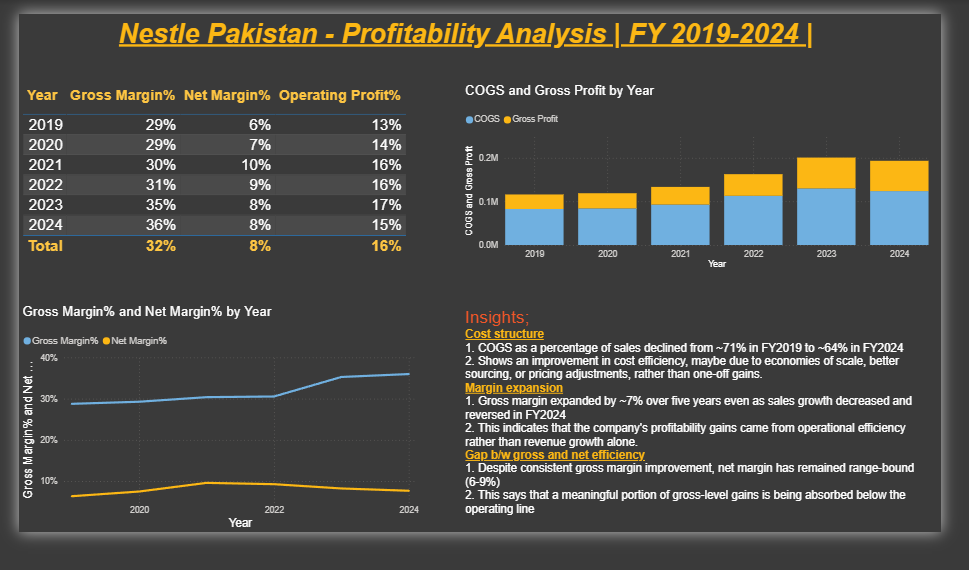

What the dashboard file says about the page in this screenshot:
{"tool":"powerbi","page":{"name":"Profitability","canvas":[1280,720],"ordinal":2},"visuals":[{"type":"lineChart","fields":{"Category":["Year Table.Year"],"Y":["Nestle Pakistan 6 yr Summary.Gross Margin%","Nestle Pakistan 6 yr Summary.Net Margin%"]},"box":[0,401.7,560,318.3],"z":0},{"type":"tableEx","fields":{"Values":["Year Table.Year","Nestle Pakistan 6 yr Summary.Gross Margin%","Nestle Pakistan 6 yr Summary.Net Margin%","Nestle Pakistan 6 yr Summary.Operating Profit%"]},"box":[0,96.7,560,248.3],"z":1000},{"type":"columnChart","fields":{"Category":["Year Table.Year"],"Y":["Nestle Pakistan 6 yr Summary.COGS","Nestle Pakistan 6 yr Summary.Gross Profit"]},"box":[615,96.7,653.3,263.3],"z":2000},{"type":"textbox","box":[133.3,0,1011.7,66.7],"z":3000},{"type":"textbox","box":[615,401.7,641.7,305],"z":4000}]}

Visuals, with their boxes on the page's 1280x720 design canvas (x1, y1, x2, y2). These are canvas units, not pixel positions in the 969x570 screenshot, which may show the page scaled, cropped or inside an application window:
lineChart - Year Table.Year x Nestle Pakistan 6 yr Summary.Gross Margin%: <bbox>0, 402, 560, 720</bbox>
tableEx - Year Table.Year x Nestle Pakistan 6 yr Summary.Gross Margin%: <bbox>0, 97, 560, 345</bbox>
columnChart - Year Table.Year x Nestle Pakistan 6 yr Summary.COGS: <bbox>615, 97, 1268, 360</bbox>
textbox: <bbox>133, 0, 1145, 67</bbox>
textbox: <bbox>615, 402, 1257, 707</bbox>
